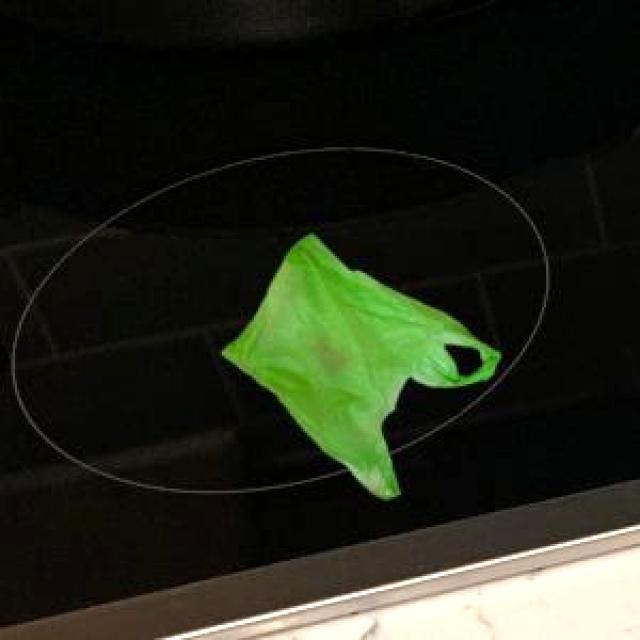Plastic_Bag: (218, 231, 496, 496)
